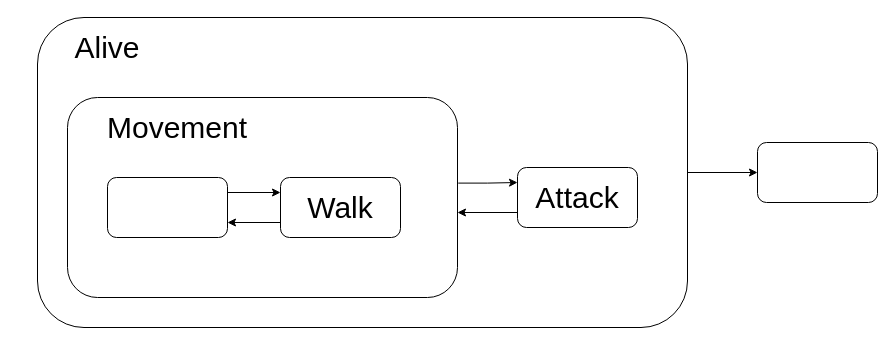
The diagram is 895 pixels wide and 345 high, and some of its shapes have lost their labels. Each missing label, with the box of its shape:
Dead: (756, 142, 878, 202)
Idle: (106, 176, 228, 238)
